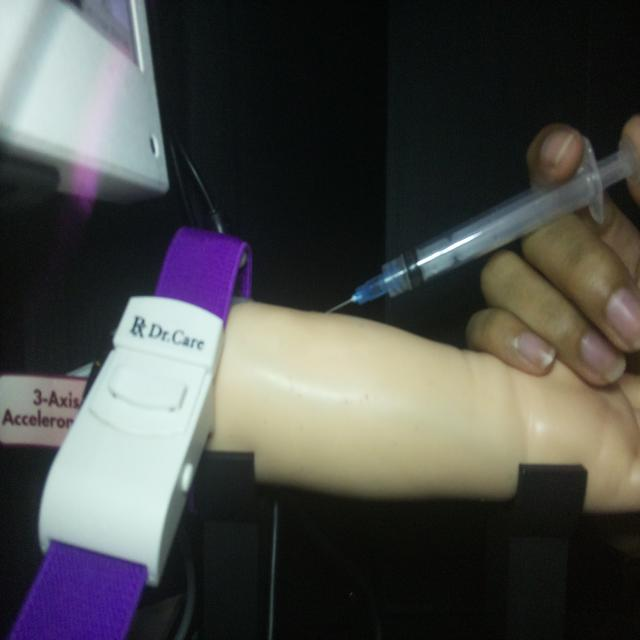19 degrees: (323, 132, 637, 316)
